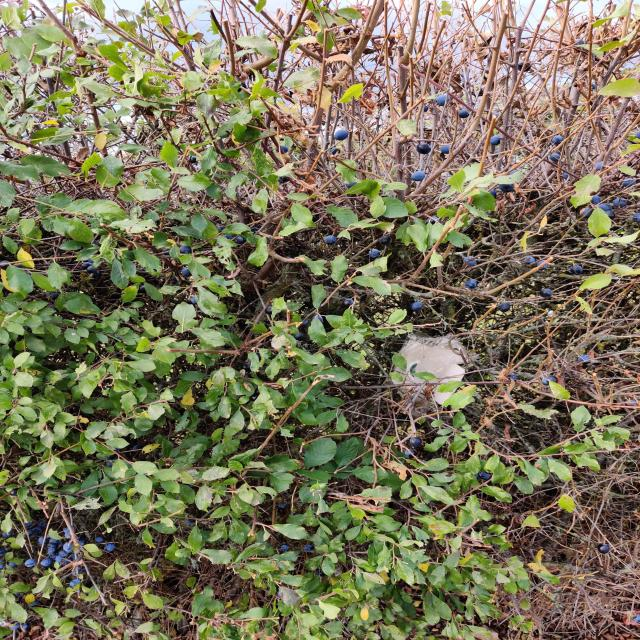litter: (375, 322, 493, 420)
